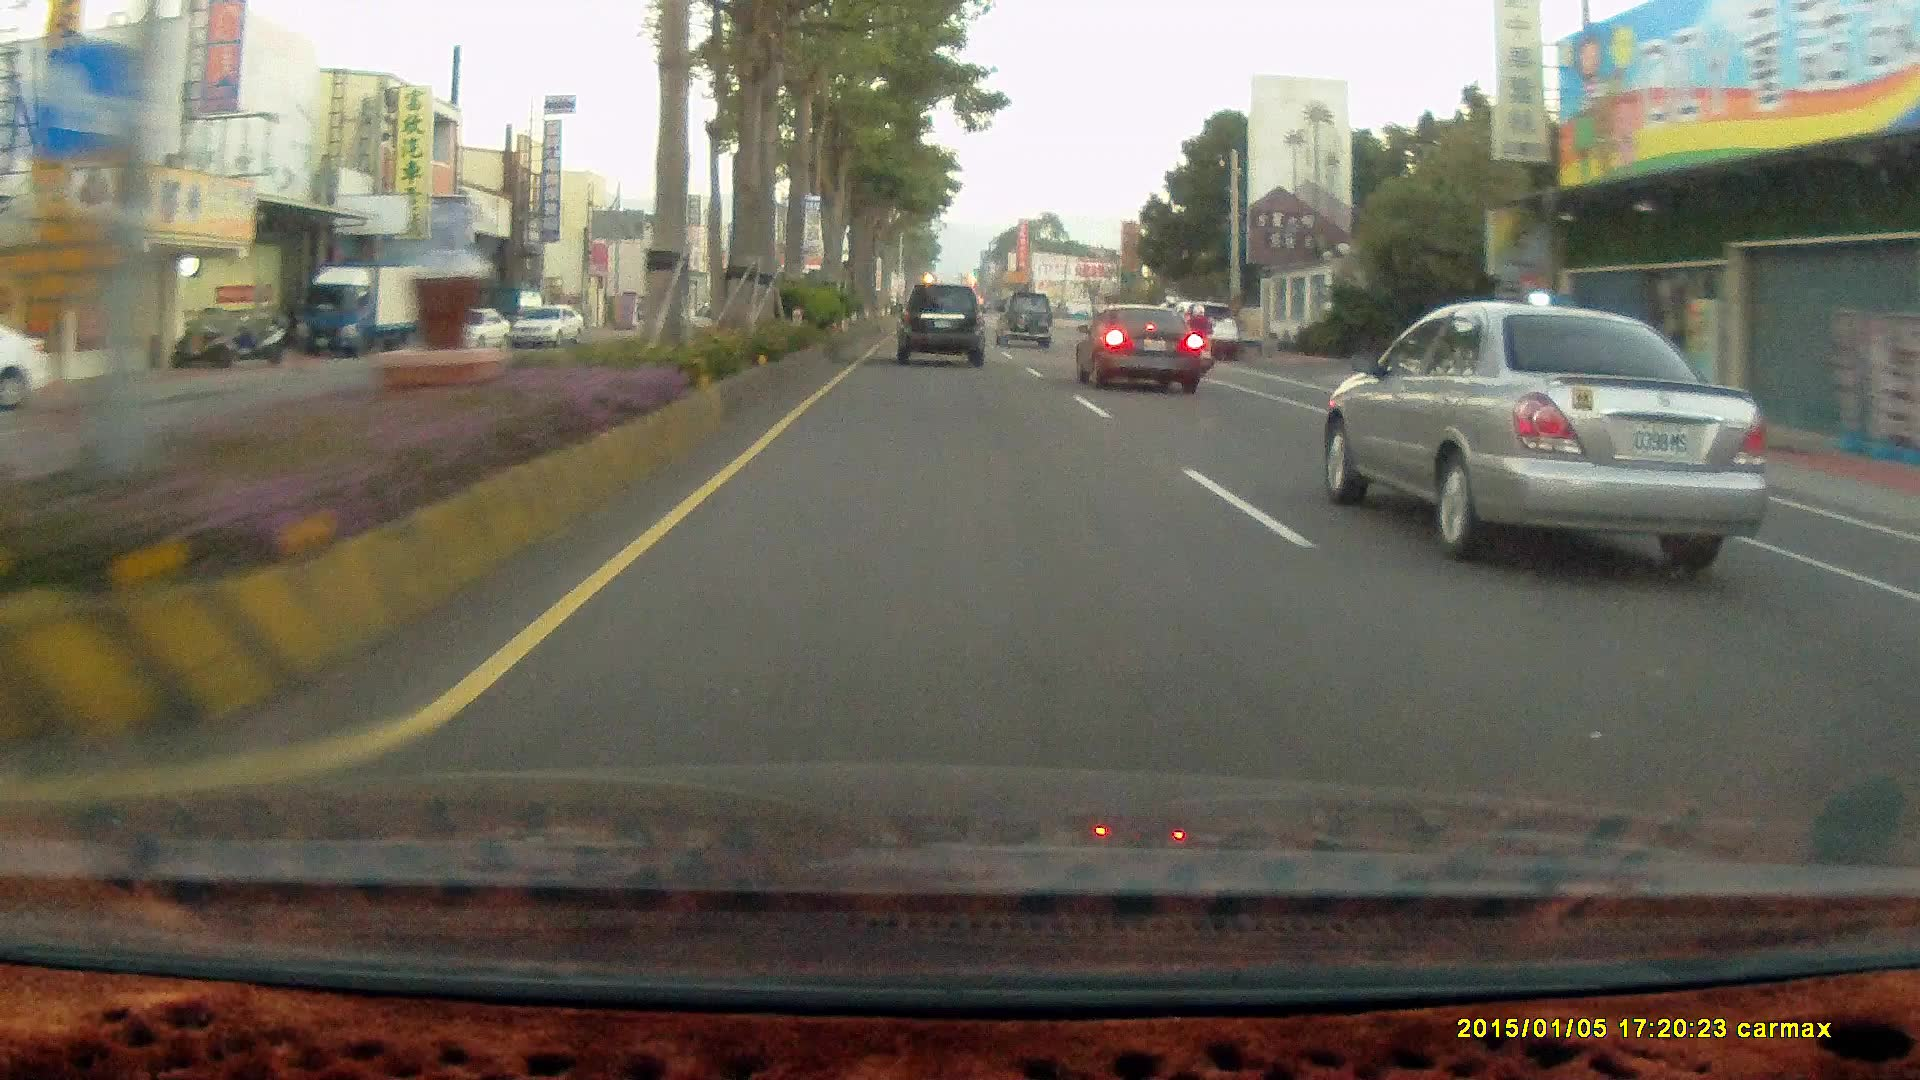rider: (1174, 302, 1218, 378)
vehicle: (1306, 298, 1761, 562), (1071, 301, 1202, 394), (294, 263, 424, 356), (294, 264, 424, 357), (1072, 305, 1203, 394), (893, 282, 988, 372), (894, 284, 981, 368), (427, 308, 518, 362), (1172, 297, 1245, 363), (1, 320, 55, 408), (426, 305, 515, 355), (994, 290, 1055, 351), (507, 305, 585, 349)
